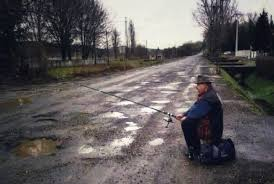pothole: (74, 109, 143, 164), (2, 112, 68, 161), (1, 86, 46, 112), (100, 88, 136, 108), (154, 79, 183, 95), (53, 83, 86, 97), (146, 98, 175, 113), (149, 136, 166, 147)
